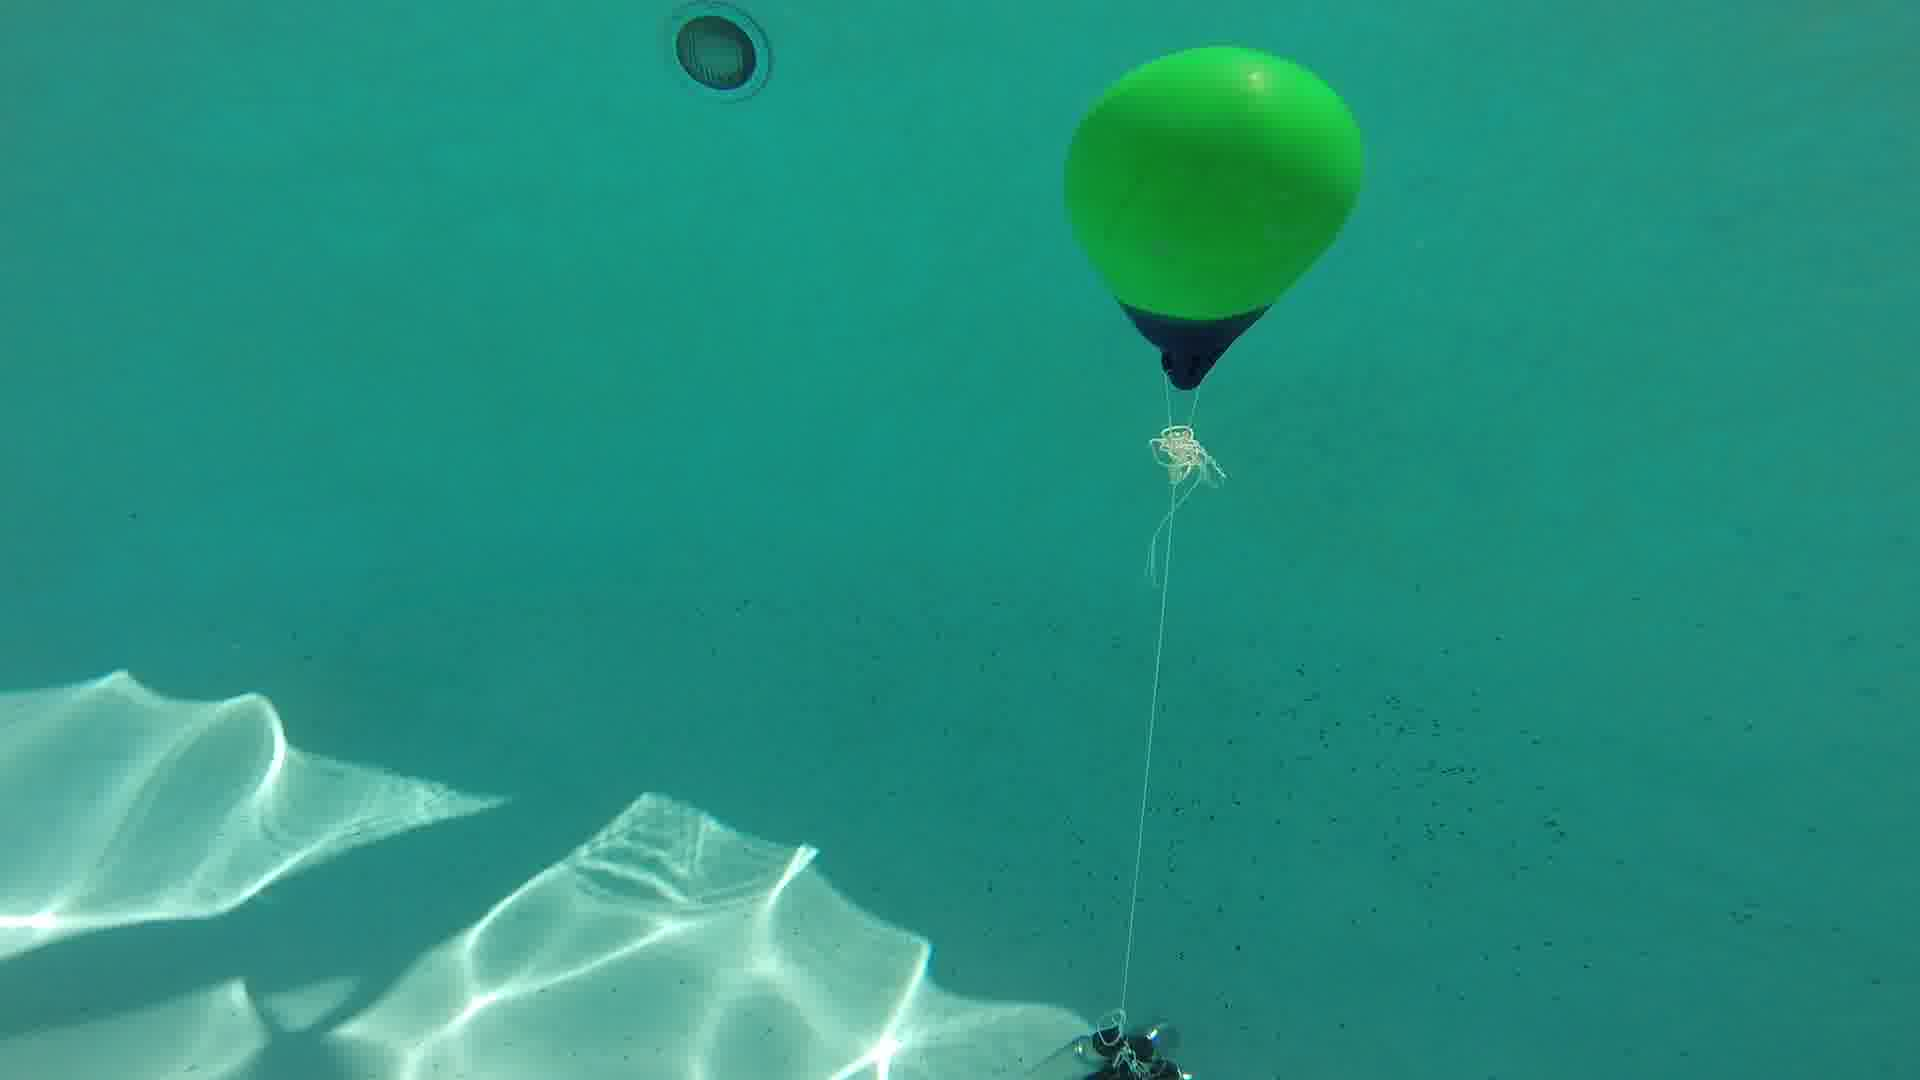yellow_buoy: (1048, 44, 1371, 402)
